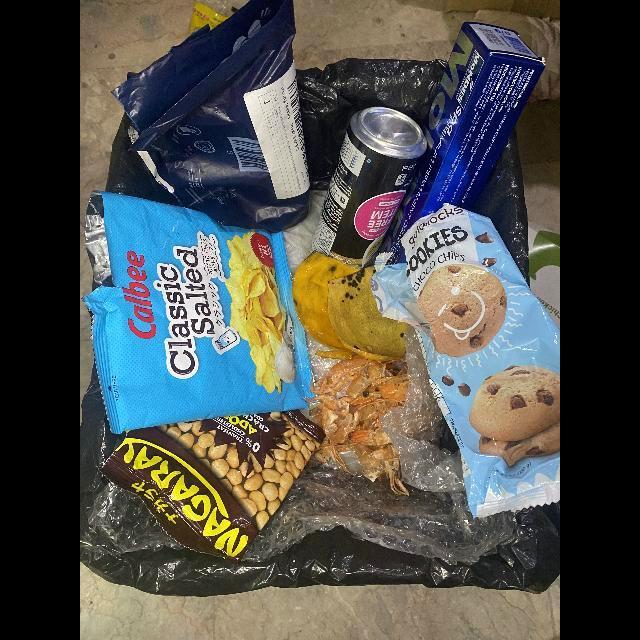aluminum: (312, 107, 428, 268)
cardboard: (363, 22, 546, 268)
food_wrapper: (370, 204, 560, 520), (83, 192, 314, 436), (100, 410, 325, 562)
left_over_food: (302, 356, 409, 496)
plastic_bag: (111, 0, 310, 234)
